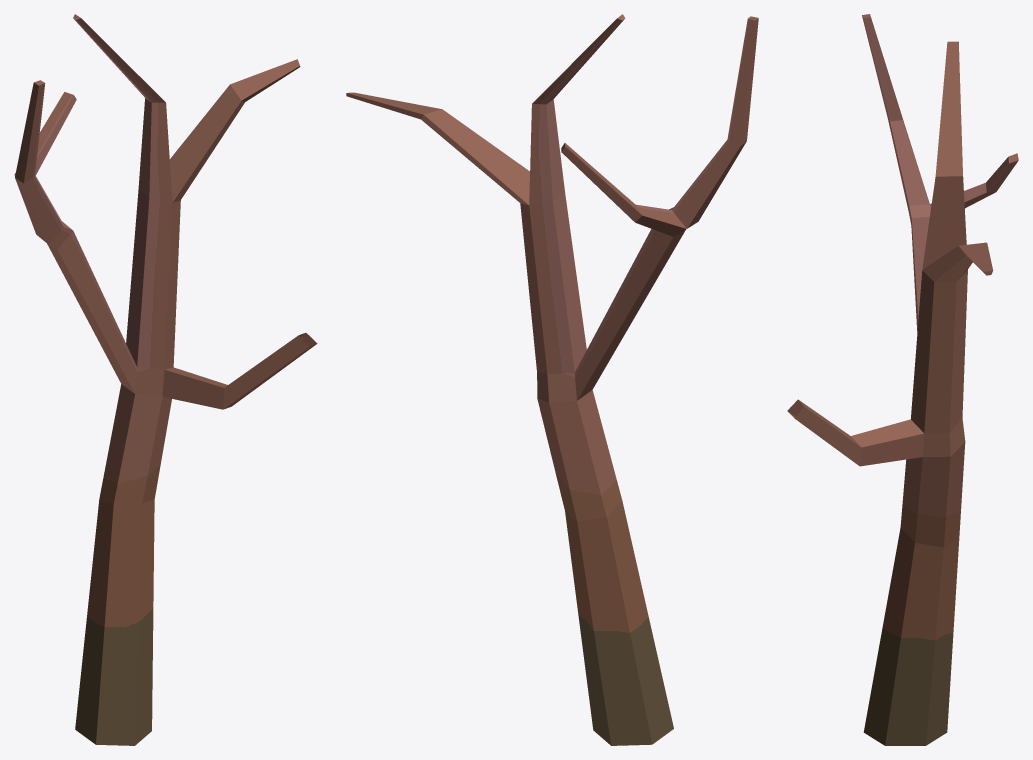
File: BushDead.fbx
3 renders of one model, left to right at view 1: azimuth 30°, elevation 25°; view 2: azimuth 150°, elevation 25°; view 3: azimuth 270°, elevation 25°, orthographic. The views are drawn at different scales.
Parts seen in each view (by area): view 1: BushDead; view 2: BushDead; view 3: BushDead.
Part boxes in pixels (x1,y1,x2,y2): BushDead: (14,14,317,745); BushDead: (346,14,758,745); BushDead: (787,14,1018,745).
Size of the model in its own units: 1.42 by 2.87 by 0.8792.
